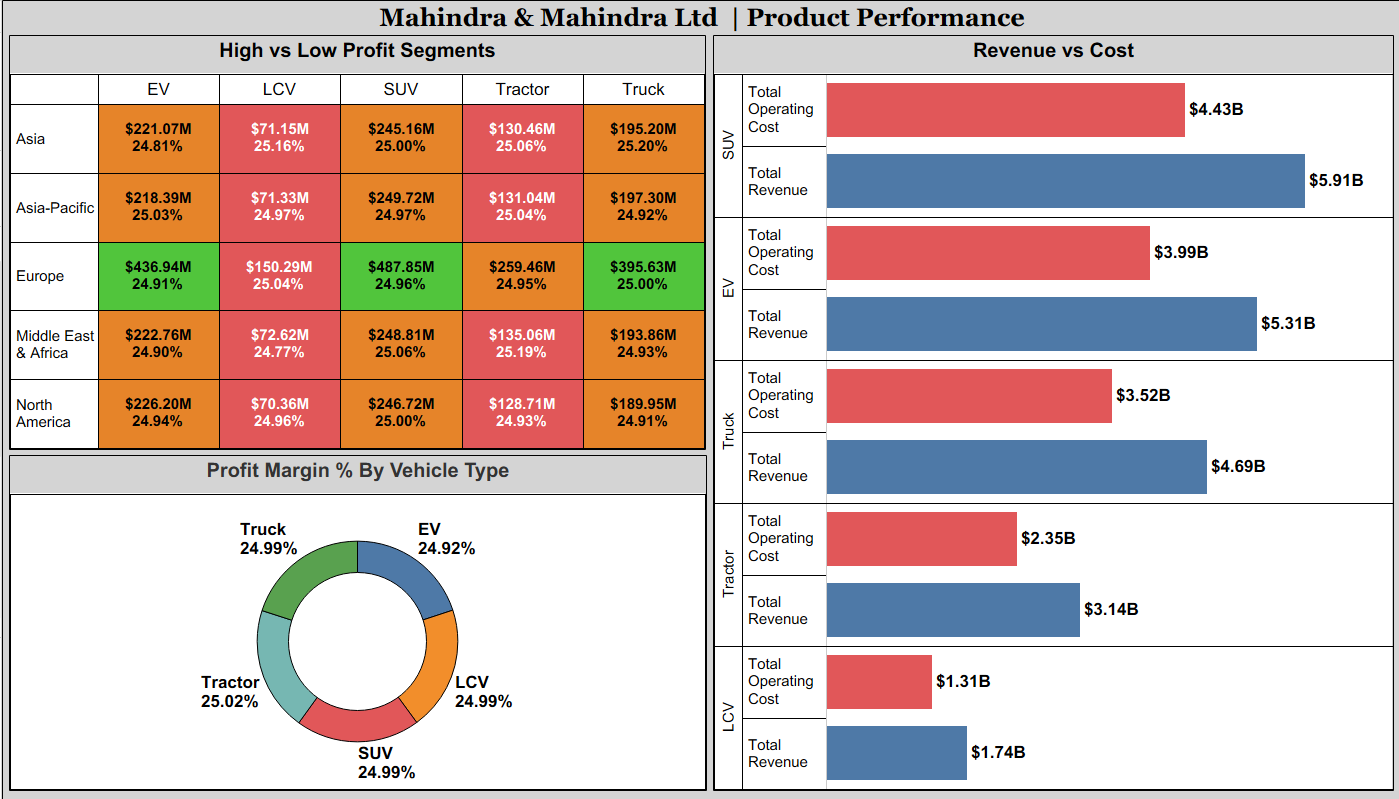

The page's visual inventory and layout, read from the dashboard file:
{"tool":"tableau","page":{"name":"Product Performance","canvas":[1400,800],"ordinal":4},"visuals":[{"type":"text","box":[0,0,1400,35]},{"type":"worksheet","title":"High vs Low Profit Segments","mark":"Square","rows":["Region"],"cols":["Vehicle_Type"],"box":[7,35,697,415]},{"type":"worksheet","title":"Revenue vs Cost","mark":"Automatic","rows":["Vehicle_Type"],"box":[711,35,681,756]},{"type":"worksheet","title":"Profit Margin % By Vehicle Type","mark":"Pie","cols":["Calculation_0671856565850116","Calculation_0671856565850116"],"box":[7,455,698,336]}]}

Visuals, with their boxes in screenshot pixels (x1, y1, x2, y2), scaled from the page's 1400x800 canvas onto the 1399x799 screenshot:
text: x1=0, y1=0, x2=1398, y2=35
"High vs Low Profit Segments" worksheet (Square marks): x1=7, y1=35, x2=703, y2=449
"Revenue vs Cost" worksheet: x1=710, y1=35, x2=1391, y2=790
"Profit Margin % By Vehicle Type" worksheet (Pie marks): x1=7, y1=454, x2=704, y2=790
